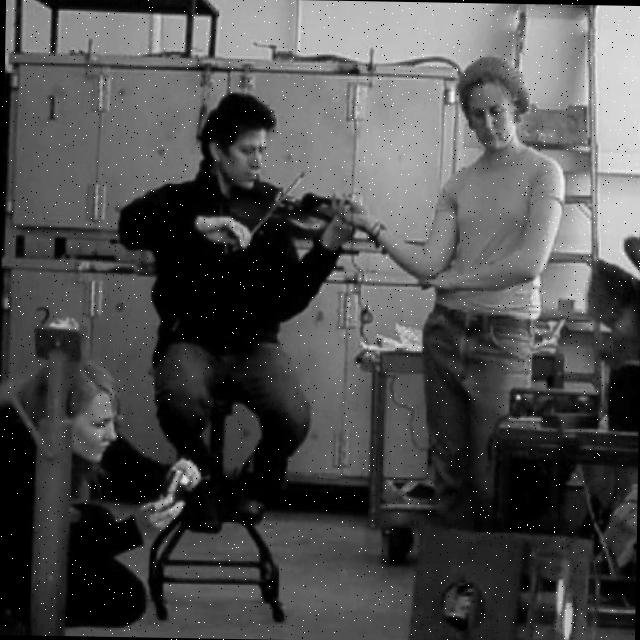violin: (222, 177, 356, 242)
